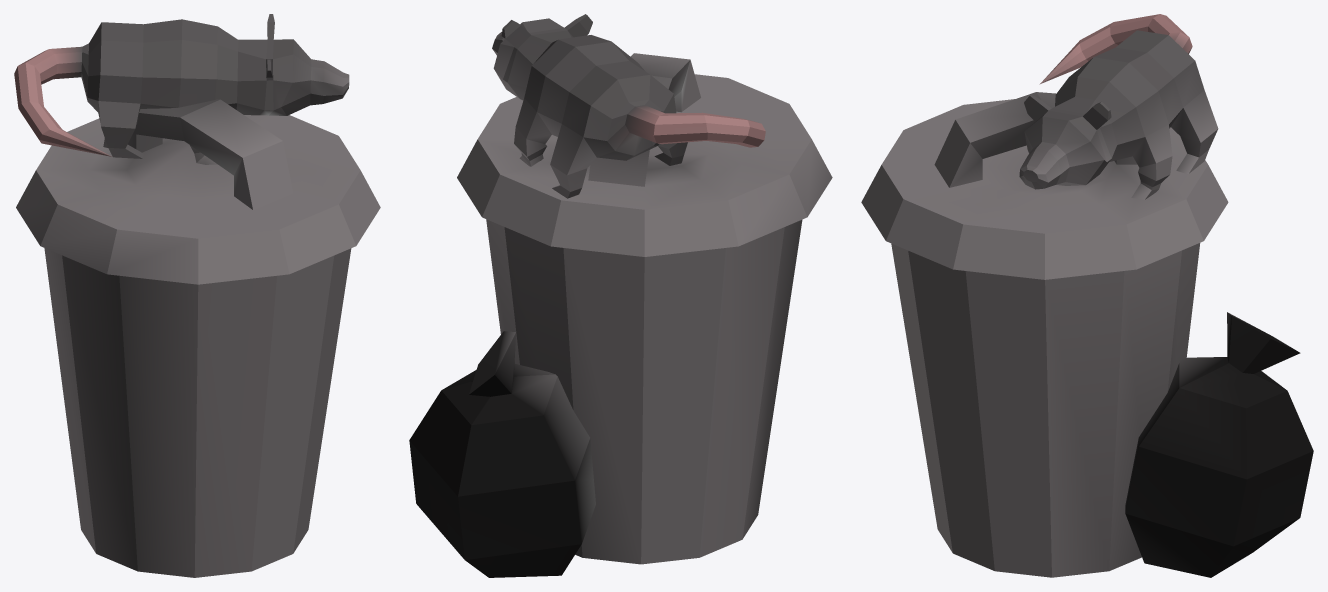
The model's file is szczur.fbx.
3 renders of one model, left to right at view 1: azimuth 30°, elevation 25°; view 2: azimuth 150°, elevation 25°; view 3: azimuth 270°, elevation 25°, orthographic. The views are drawn at different scales.
Parts seen in each view (by area): view 1: szczur; view 2: szczur; view 3: szczur.
Part boxes in pixels (x1,y1,x2,y2): szczur: (14, 14, 380, 577); szczur: (409, 14, 832, 577); szczur: (861, 14, 1313, 577).
Size of the model in its own units: 91.36 by 132 by 113.
